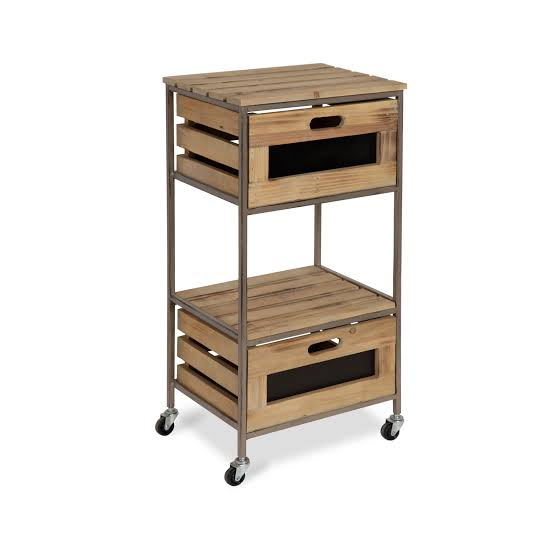Carts: (153, 63, 409, 486)
